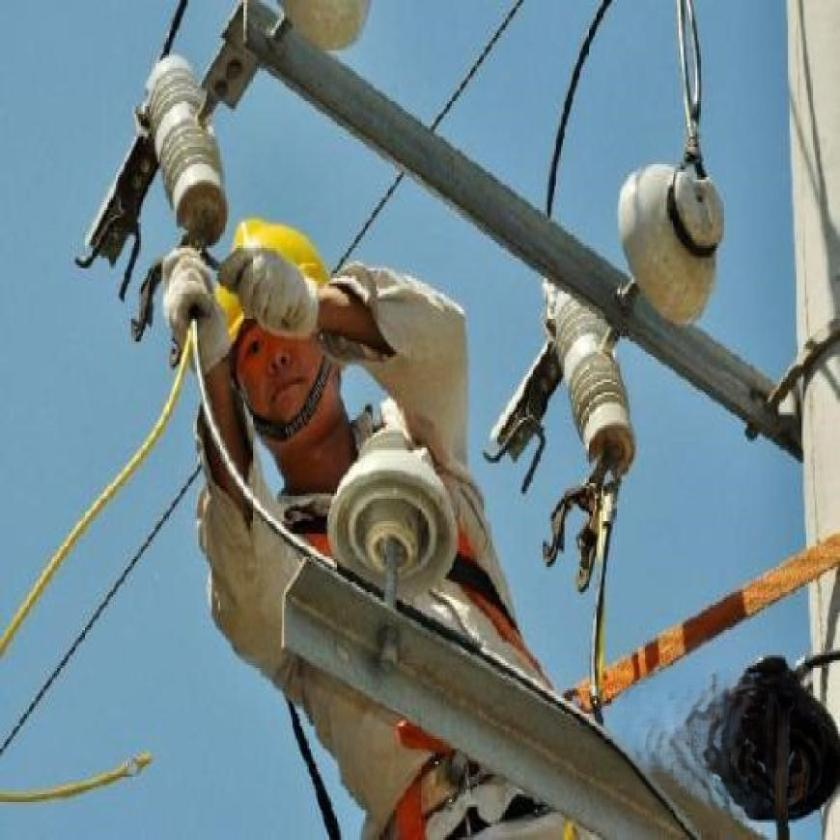Con_casco: (224, 200, 334, 463)
